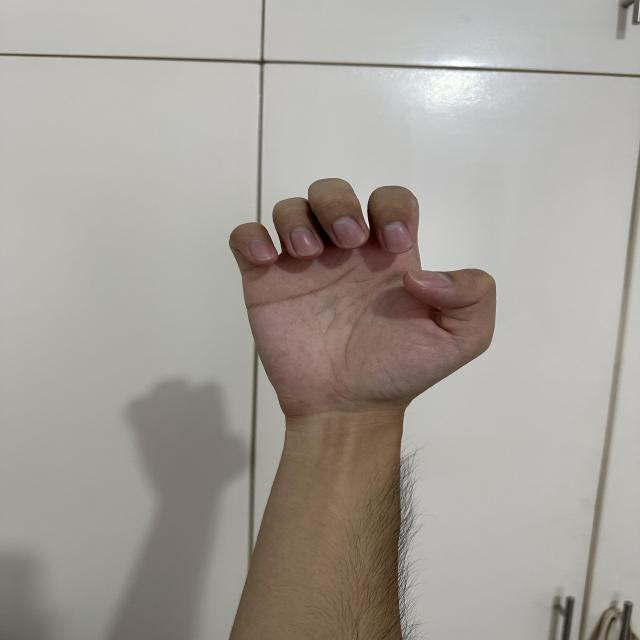E: (226, 176, 499, 420)
